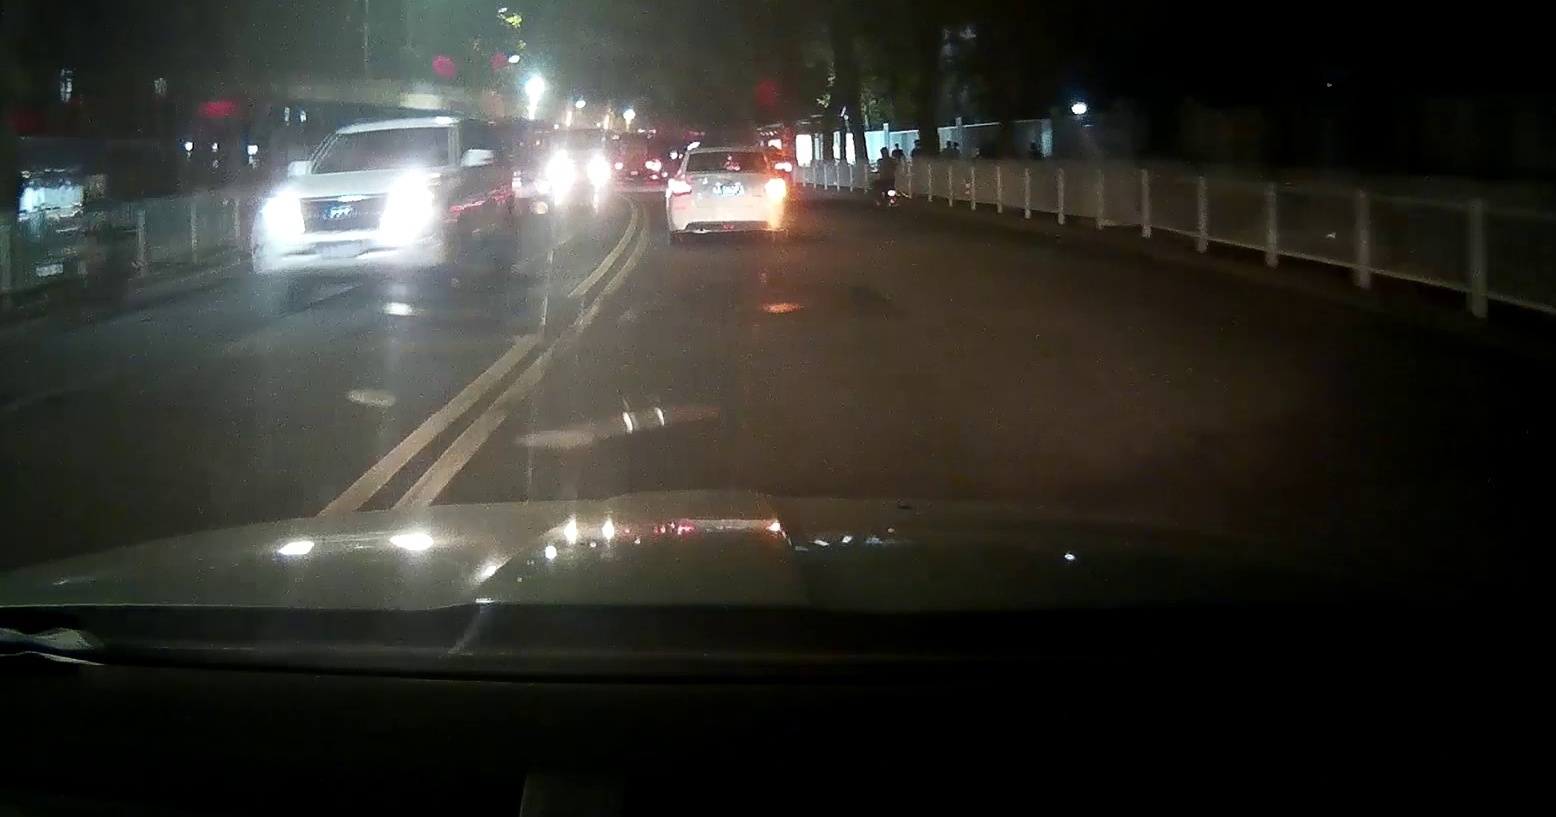L_light: (671, 182, 692, 196)
R_light: (763, 181, 782, 193)
T_light: (718, 151, 736, 156)
night-right: (666, 148, 784, 244)
